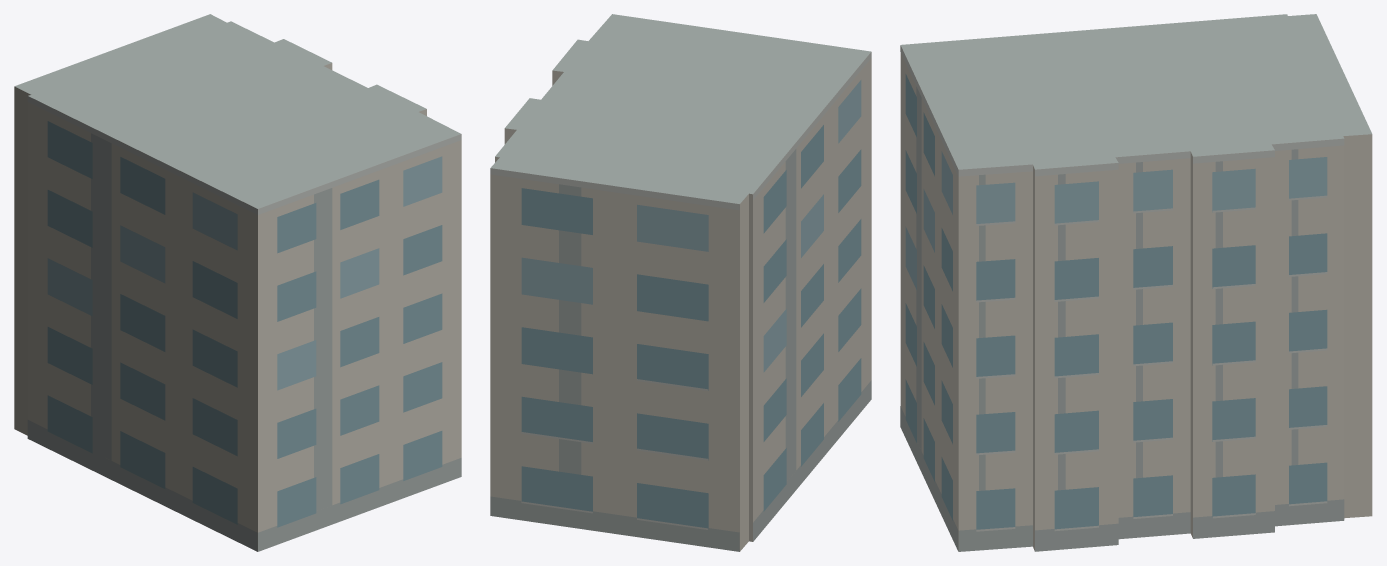
File: survey-upis-32882739.glb
3 views of the same model, side by side, from view 1: azimuth 30°, elevation 25°; view 2: azimuth 150°, elevation 25°; view 3: azimuth 270°, elevation 25° (orthographic). The views are drawn at different scales.
Parts seen in each view (by area): view 1: survey-upis-32882739.tmp; view 2: survey-upis-32882739.tmp; view 3: survey-upis-32882739.tmp.
Part boxes in pixels (x1,y1,x2,y2): survey-upis-32882739.tmp: (14,14,461,551); survey-upis-32882739.tmp: (490,14,871,551); survey-upis-32882739.tmp: (900,14,1372,551).
Size of the model in its own units: 11.9 by 13.6 by 15.23.
